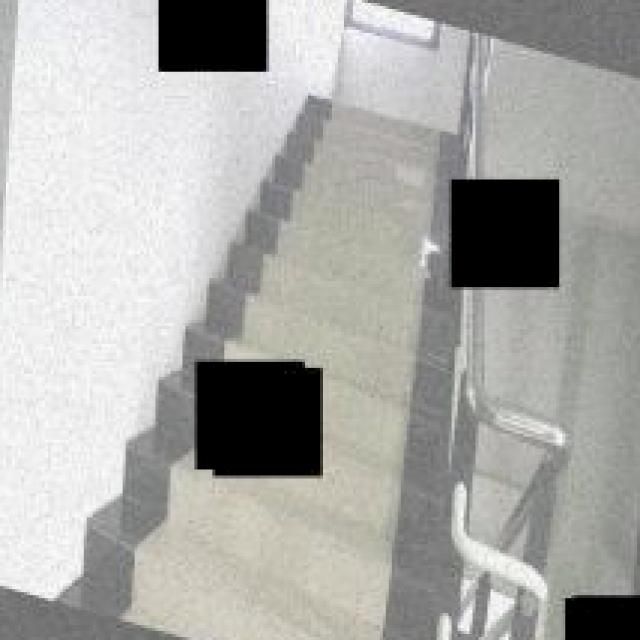upstair: (300, 109, 447, 366)
